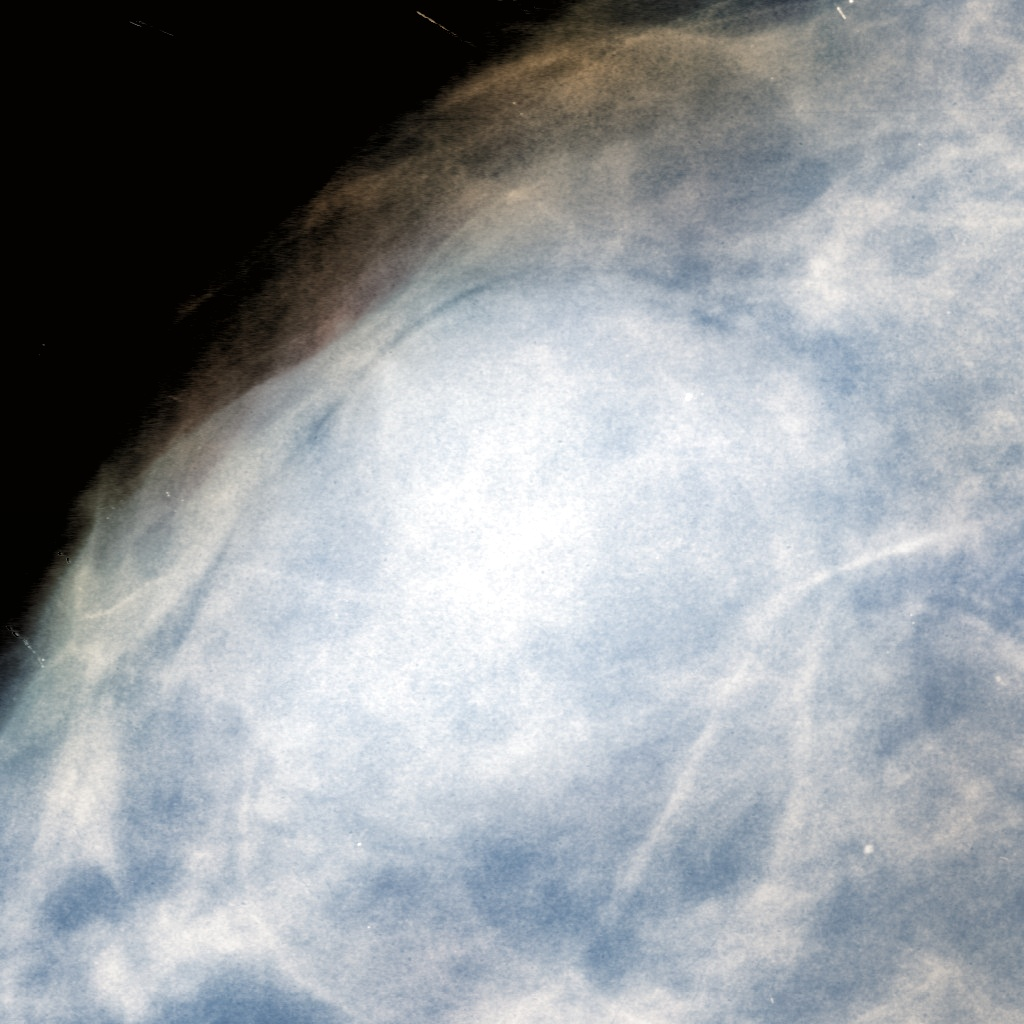tumor: (301, 279, 723, 745)
